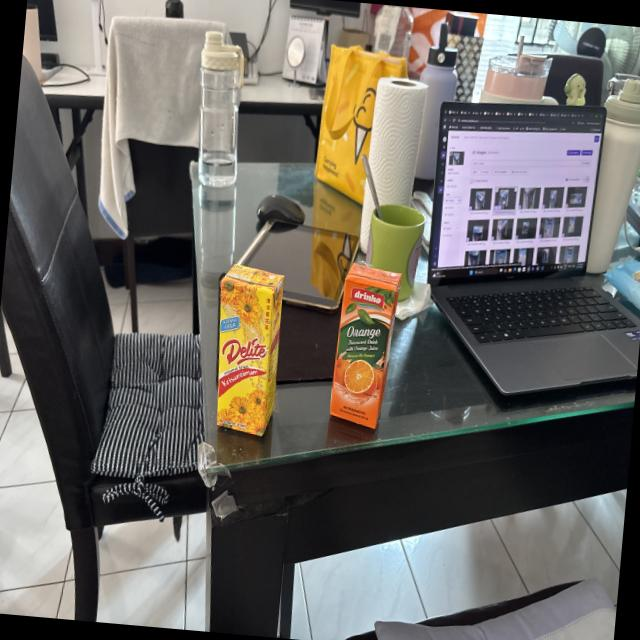drink_carton: (202, 252, 296, 444), (320, 257, 408, 436)
